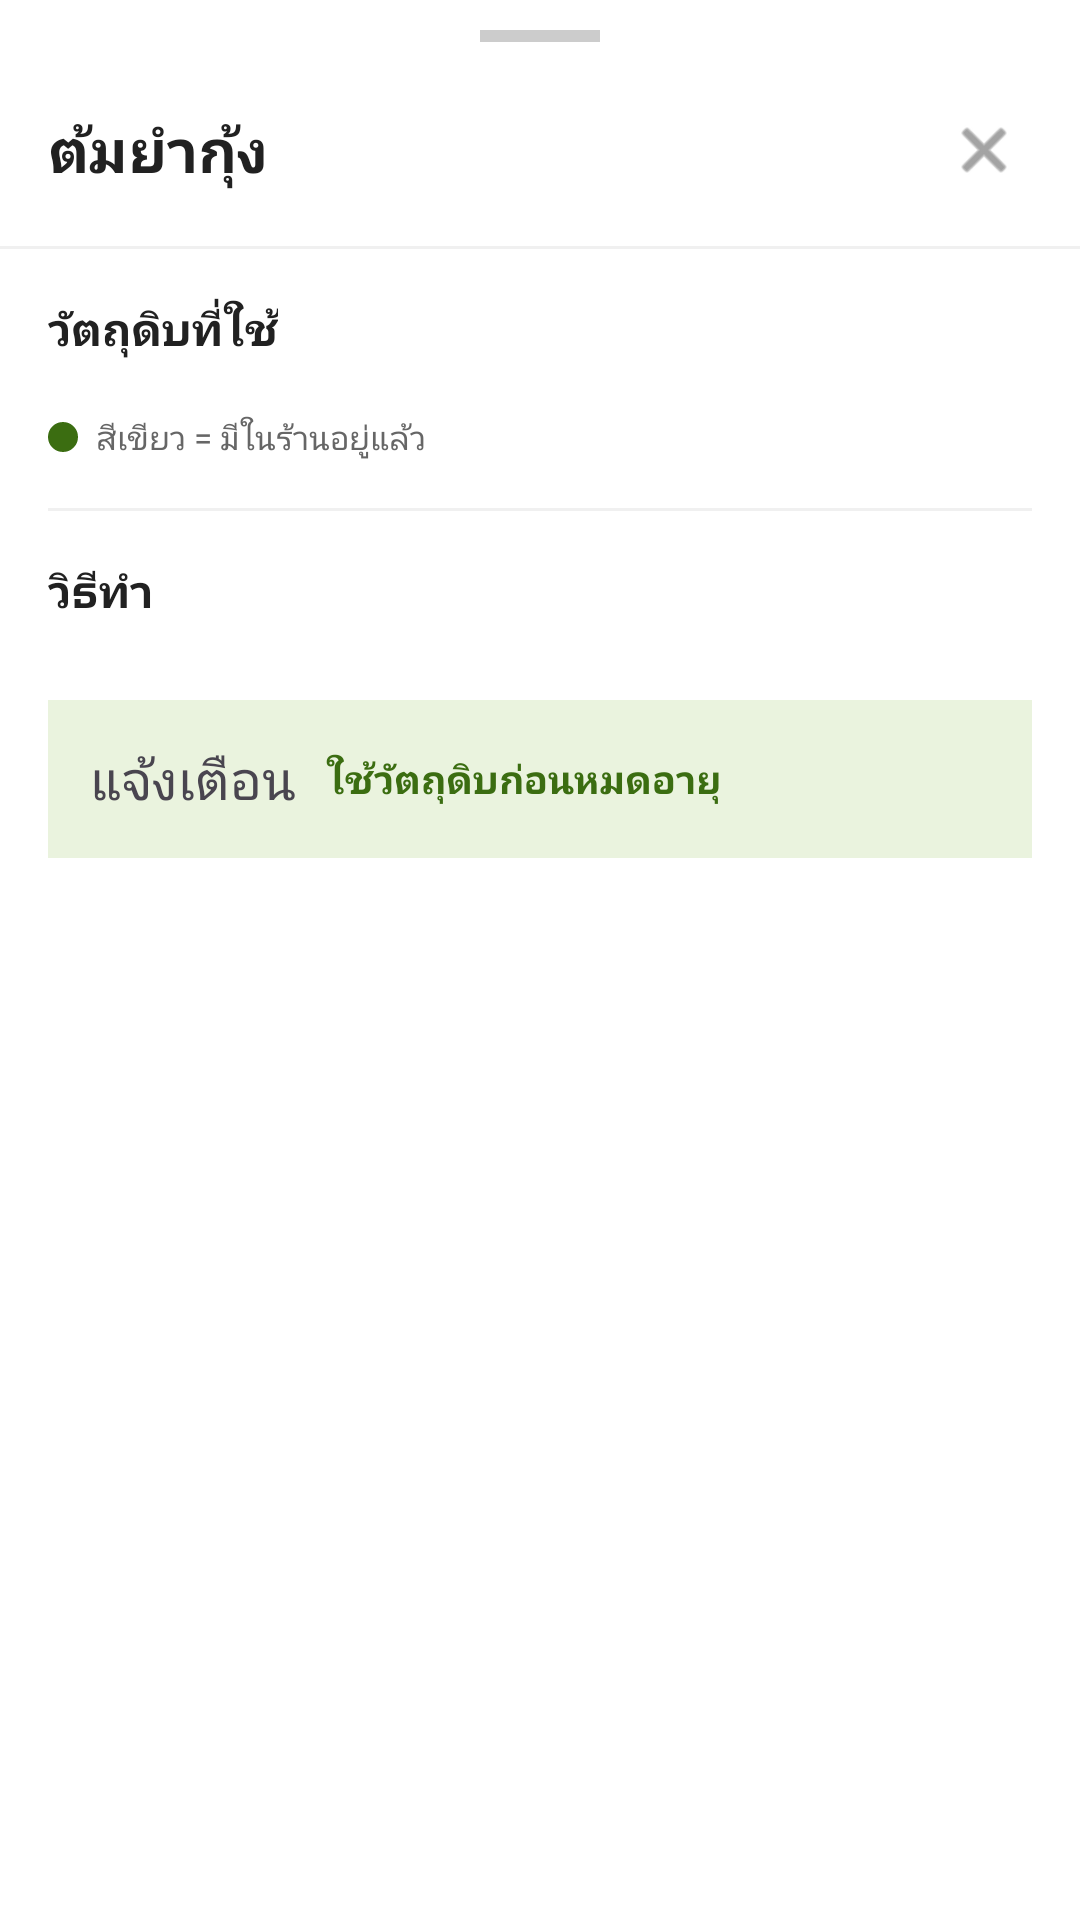

Point at icon controls on the screen. Image size 1080x1920, points as point (x, y).
close clear cancel: point (984, 150)
